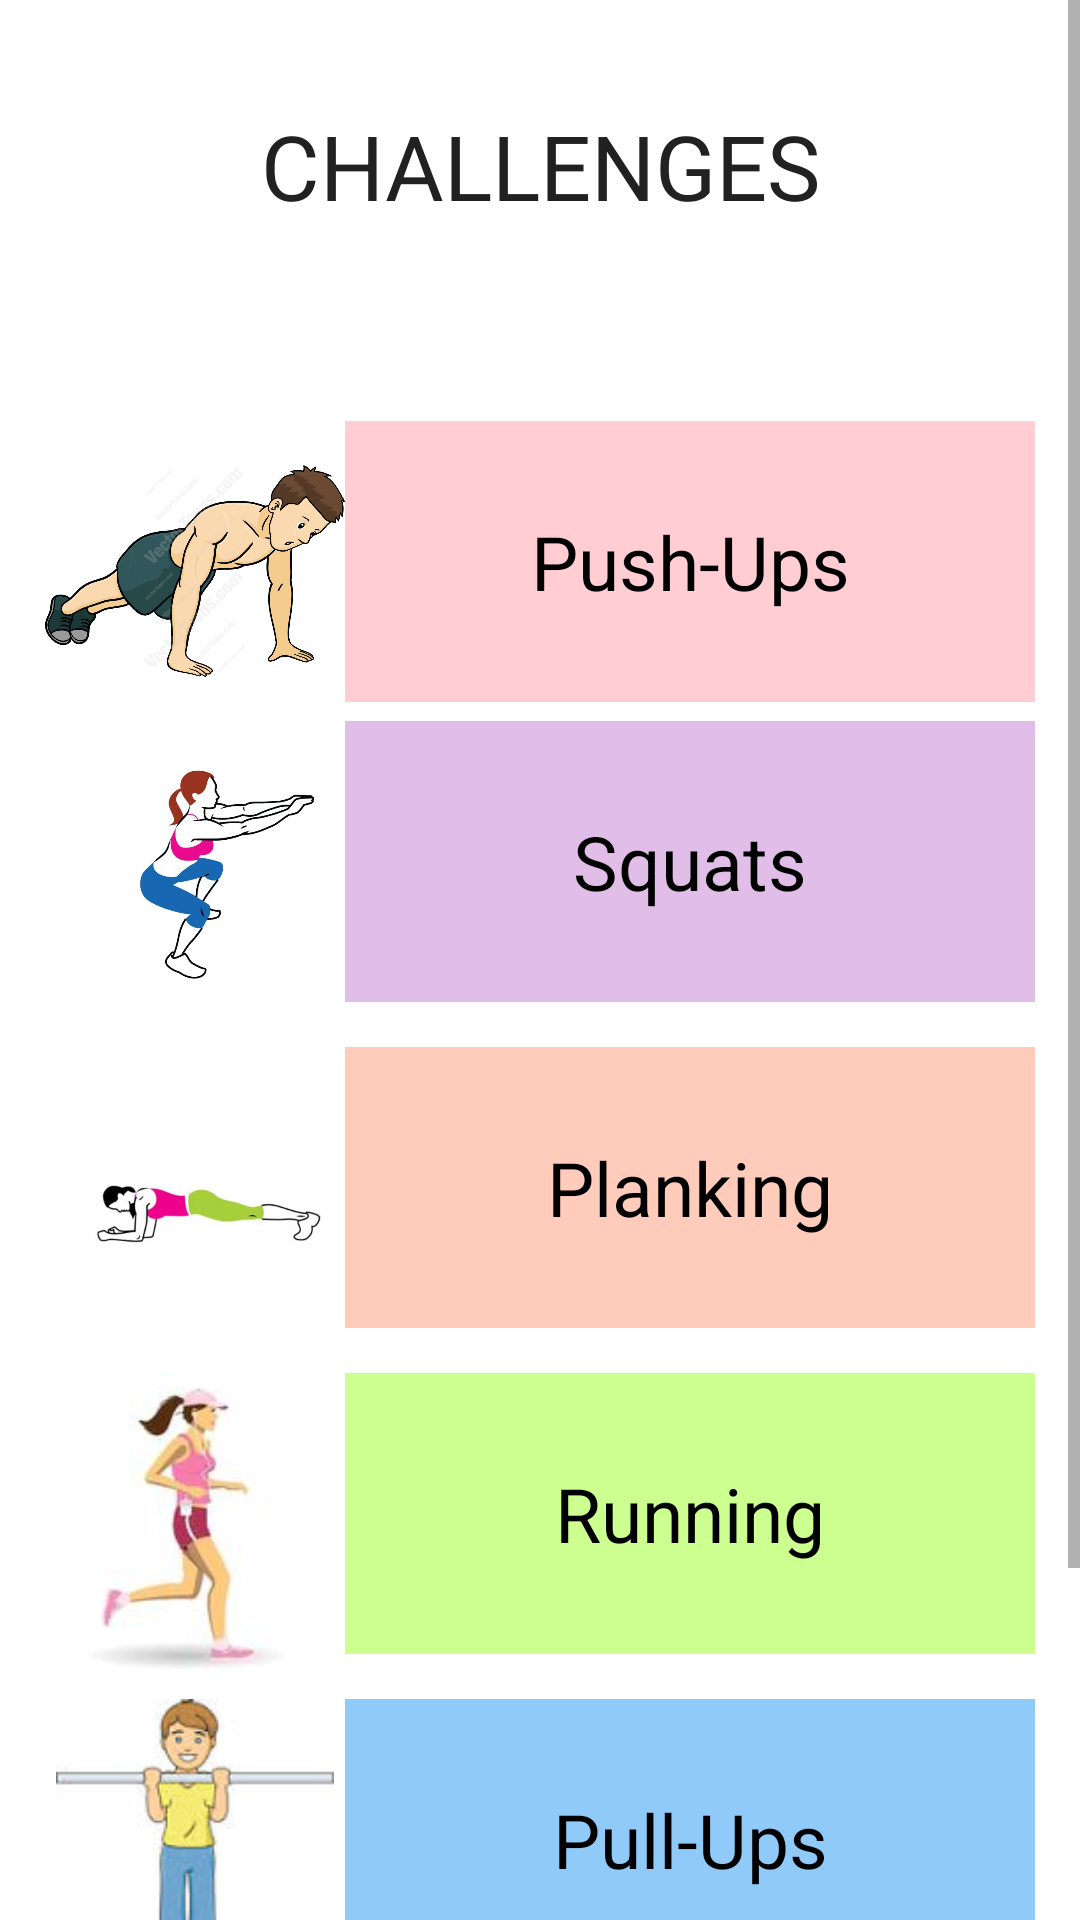

Screen size 1080×1920. Icon name, then its center in pixels as (x=x, y=y):
run: (x=180, y=1527)
